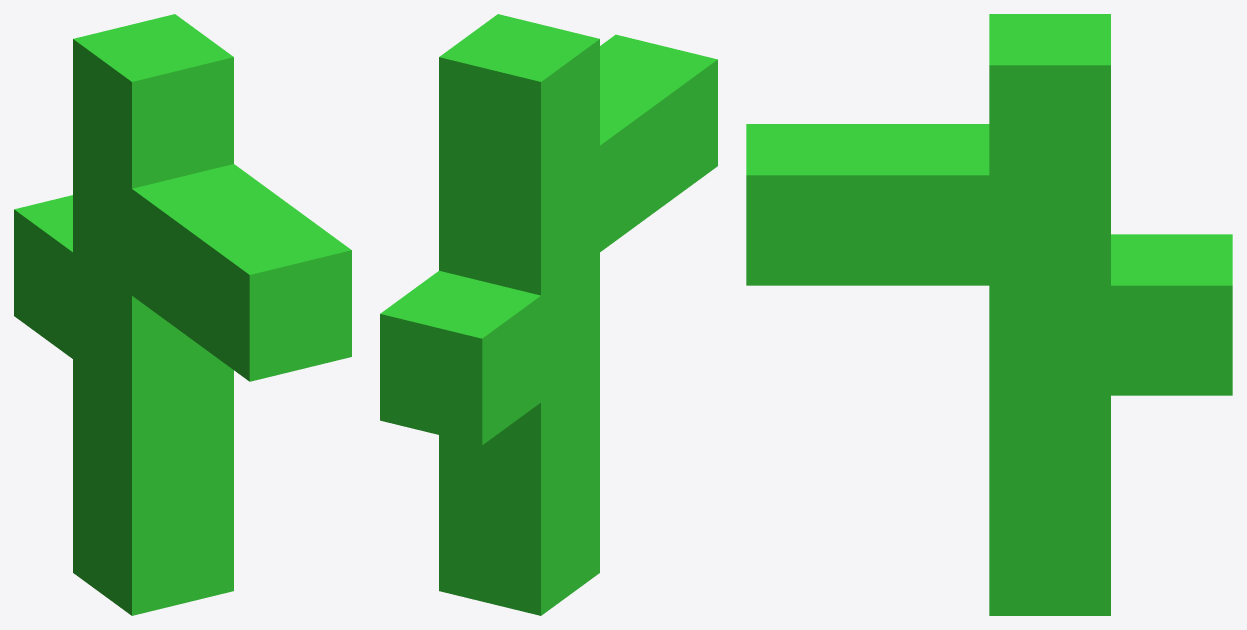
The model's file is Player.fbx.
The picture shows the model from 3 angles, left to right: view 1: azimuth 30°, elevation 25°; view 2: azimuth 150°, elevation 25°; view 3: azimuth 270°, elevation 25°; orthographic projection. The views are drawn at different scales.
Visible parts, largest first — view 1: Cube.001; view 2: Cube.001; view 3: Cube.001.
Boxes of the visible parts, x1,y1,x2,y2 form: Cube.001: [14, 14, 351, 615]; Cube.001: [380, 14, 717, 615]; Cube.001: [746, 14, 1232, 615].
Bounding box in the file's own units: 100 × 500 × 400.
